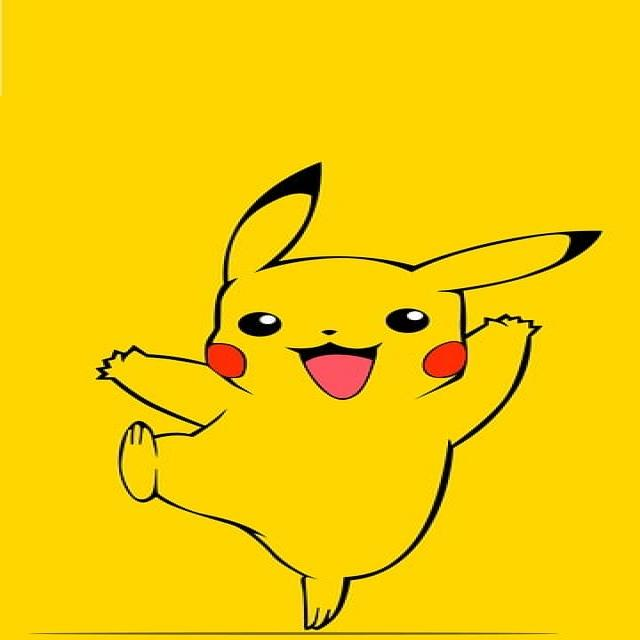Pikachu: (53, 133, 629, 639)
